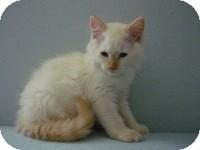siamese: (87, 14, 149, 81)
